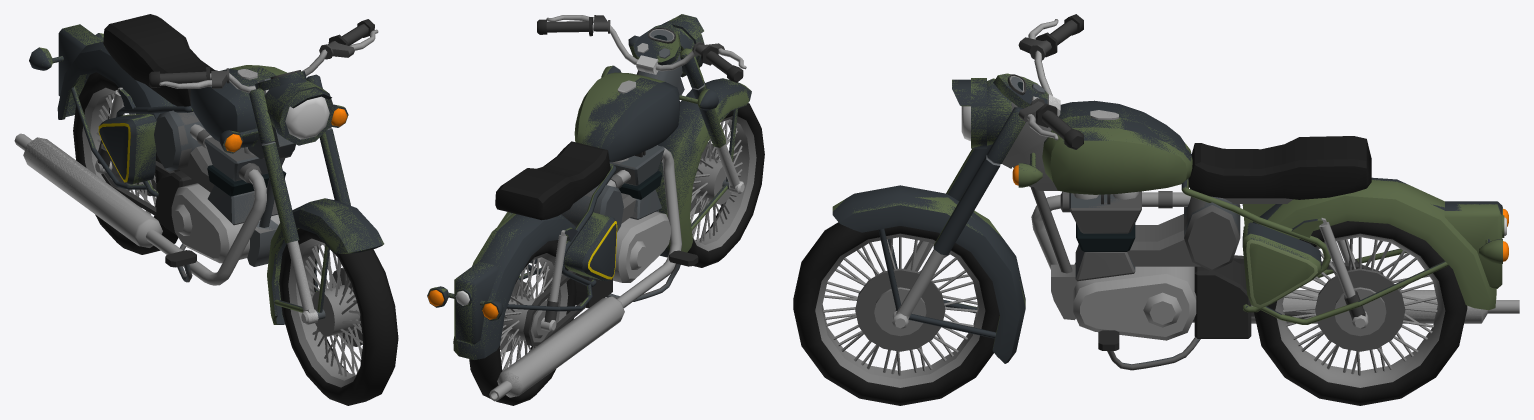
File: SM_Vehicles_ Bike_03_V1.fbx
3 views of the same model, side by side, from view 1: azimuth 30°, elevation 25°; view 2: azimuth 150°, elevation 25°; view 3: azimuth 270°, elevation 25° (orthographic). The views are drawn at different scales.
Visible parts, largest first — view 1: SM_Vehicles_ Bike_03_V1, SM_Vehicles_ Bike_03_V1_Steering_Wheel, SM_Vehicles_ Bike_03_F, SM_Vehicles_ Bike_03_V2, SM_Vehicles_ Bike_03_V2_Steering_Wheel, SM_Vehicles_ Bike_03_B; view 2: SM_Vehicles_ Bike_03_V1, SM_Vehicles_ Bike_03_V2, SM_Vehicles_ Bike_03_V1_Steering_Wheel, SM_Vehicles_ Bike_03_V2_Steering_Wheel, SM_Vehicles_ Bike_03_F, SM_Vehicles_ Bike_03_B; view 3: SM_Vehicles_ Bike_03_V2, SM_Vehicles_ Bike_03_F, SM_Vehicles_ Bike_03_V1_Steering_Wheel, SM_Vehicles_ Bike_03_B, SM_Vehicles_ Bike_03_V1, SM_Vehicles_ Bike_03_V2_Steering_Wheel.
Boxes of the visible parts, box(x1,y1,x2,y2) form: SM_Vehicles_ Bike_03_V1: box(14, 14, 348, 285); SM_Vehicles_ Bike_03_V1_Steering_Wheel: box(149, 19, 383, 324); SM_Vehicles_ Bike_03_F: box(279, 228, 398, 405); SM_Vehicles_ Bike_03_V2: box(16, 14, 347, 282); SM_Vehicles_ Bike_03_V2_Steering_Wheel: box(149, 22, 384, 324); SM_Vehicles_ Bike_03_B: box(73, 72, 180, 254); SM_Vehicles_ Bike_03_V1: box(427, 54, 718, 400); SM_Vehicles_ Bike_03_V2: box(427, 65, 709, 401); SM_Vehicles_ Bike_03_V1_Steering_Wheel: box(537, 14, 751, 257); SM_Vehicles_ Bike_03_V2_Steering_Wheel: box(537, 14, 750, 252); SM_Vehicles_ Bike_03_F: box(687, 103, 764, 267); SM_Vehicles_ Bike_03_B: box(469, 240, 576, 405); SM_Vehicles_ Bike_03_V2: box(1002, 102, 1519, 370); SM_Vehicles_ Bike_03_F: box(793, 222, 999, 405); SM_Vehicles_ Bike_03_V1_Steering_Wheel: box(832, 17, 1083, 363); SM_Vehicles_ Bike_03_B: box(1254, 221, 1467, 405); SM_Vehicles_ Bike_03_V1: box(1014, 100, 1519, 368); SM_Vehicles_ Bike_03_V2_Steering_Wheel: box(832, 14, 1083, 349).
Size of the model in its own units: 0.9042 by 1.14 by 2.27.
